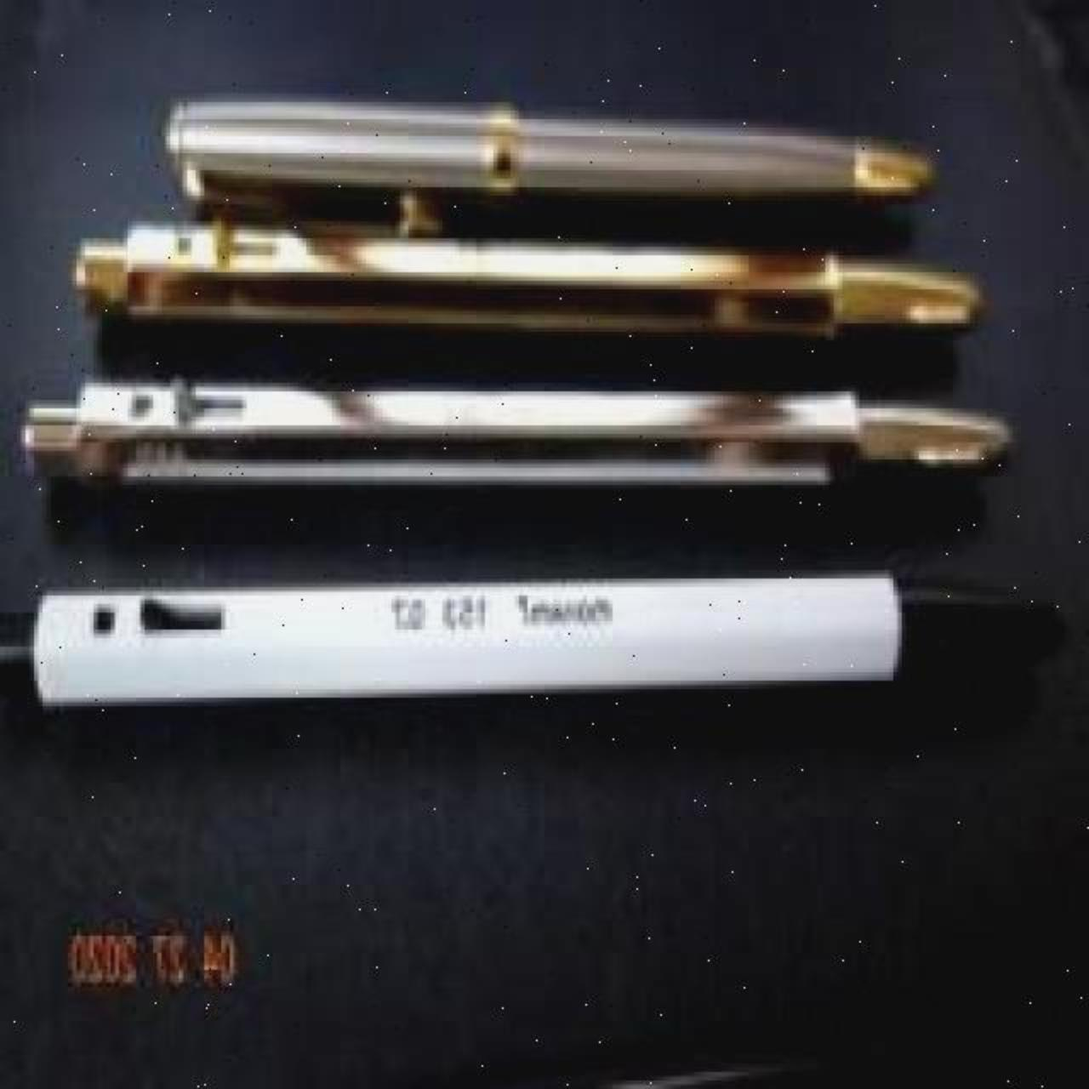pen: (0, 575, 1072, 711)
